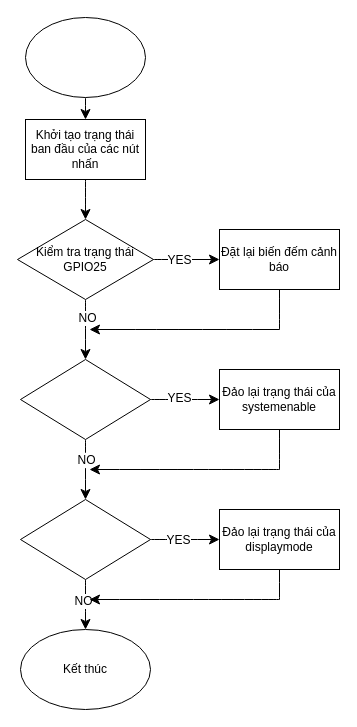
Some shapes in this 357 by 727 pixel diagram are drawn without their labels. Here are the shapes that lost their labels. From the top down, the centre of each, then its label:
the point at 85,57: Bắt đầu
the point at 85,399: Kiểm tra trạng thái GPIO26
the point at 85,539: Kiểm tra trạng thái GPIO27
